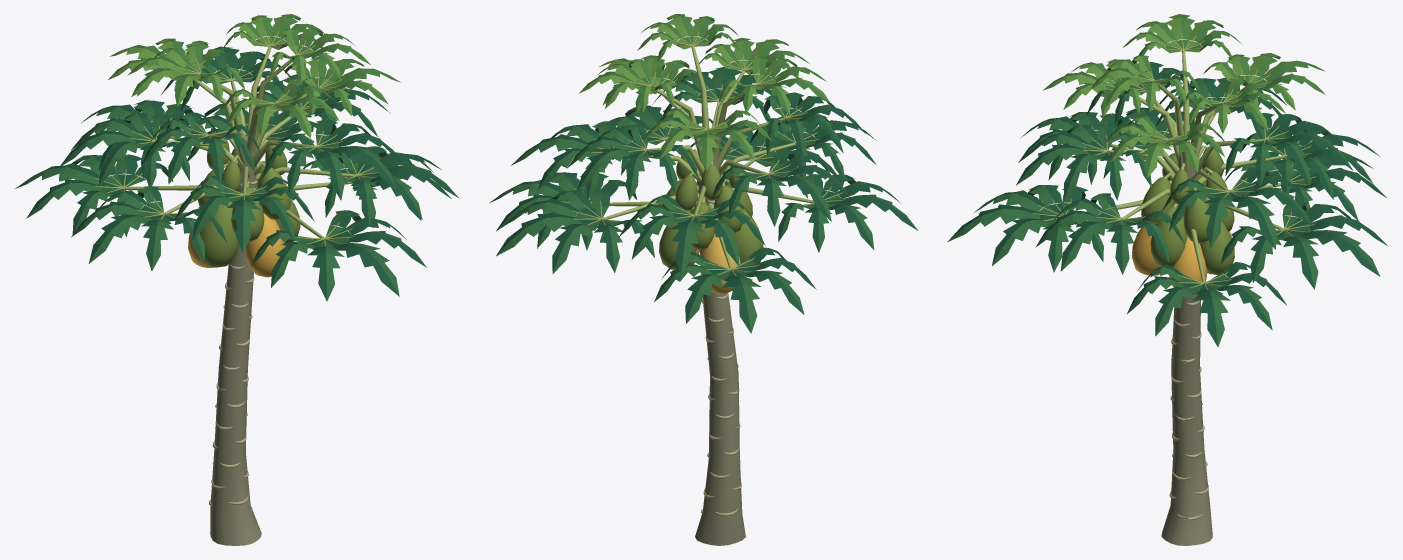
3 renders of one model, left to right at view 1: azimuth 30°, elevation 25°; view 2: azimuth 150°, elevation 25°; view 3: azimuth 270°, elevation 25°, orthographic. The views are drawn at different scales.
Parts seen in each view (by area): view 1: Palmate leaves, Trunk, Fruit cluster, Leaf stalks, Leaf veins, Trunk markings; view 2: Palmate leaves, Trunk, Fruit cluster, Leaf stalks, Leaf veins, Trunk markings; view 3: Palmate leaves, Trunk, Fruit cluster, Leaf stalks, Leaf veins, Trunk markings.
Boxes of the visible parts, left/top/right/bottom form: Palmate leaves: left=15, top=14, right=459, bottom=301; Trunk: left=210, top=135, right=261, bottom=545; Fruit cluster: left=188, top=137, right=300, bottom=277; Leaf stalks: left=123, top=46, right=356, bottom=238; Leaf veins: left=66, top=17, right=410, bottom=251; Trunk markings: left=209, top=180, right=257, bottom=510; Palmate leaves: left=489, top=14, right=918, bottom=333; Trunk: left=695, top=153, right=745, bottom=545; Fruit cluster: left=659, top=149, right=763, bottom=294; Leaf stalks: left=591, top=46, right=813, bottom=268; Leaf veins: left=536, top=17, right=870, bottom=282; Trunk markings: left=701, top=200, right=741, bottom=515; Palmate leaves: left=947, top=14, right=1388, bottom=346; Trunk: left=1161, top=153, right=1212, bottom=545; Fruit cluster: left=1131, top=145, right=1234, bottom=294; Leaf stalks: left=1086, top=50, right=1285, bottom=282; Leaf veins: left=1003, top=18, right=1341, bottom=295; Trunk markings: left=1169, top=300, right=1209, bottom=520.
Bounding box in the file's own units: 2.63 × 3.12 × 2.55.
